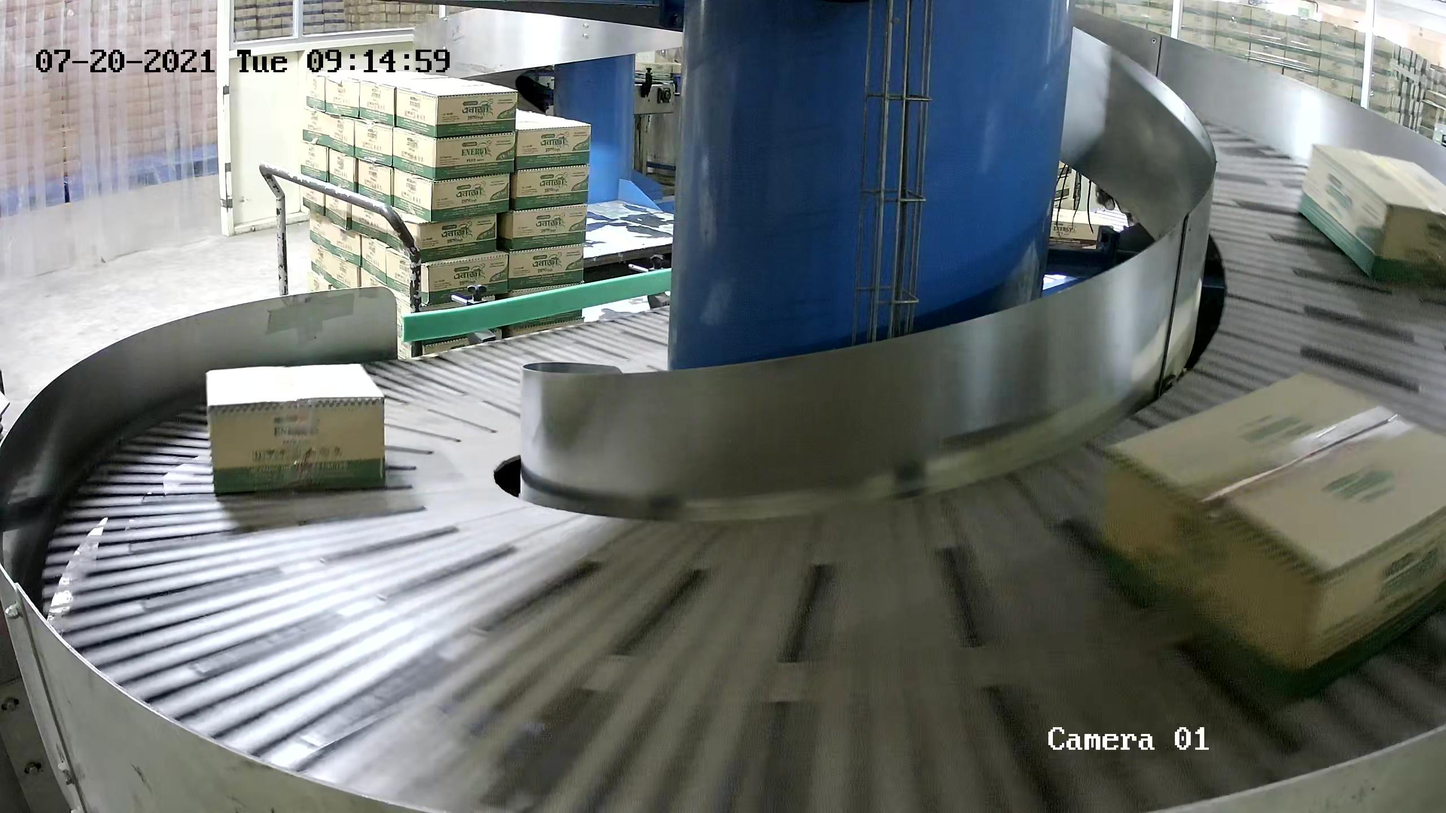Box: (1090, 367, 1446, 698), (206, 364, 387, 498), (1296, 144, 1446, 294)
